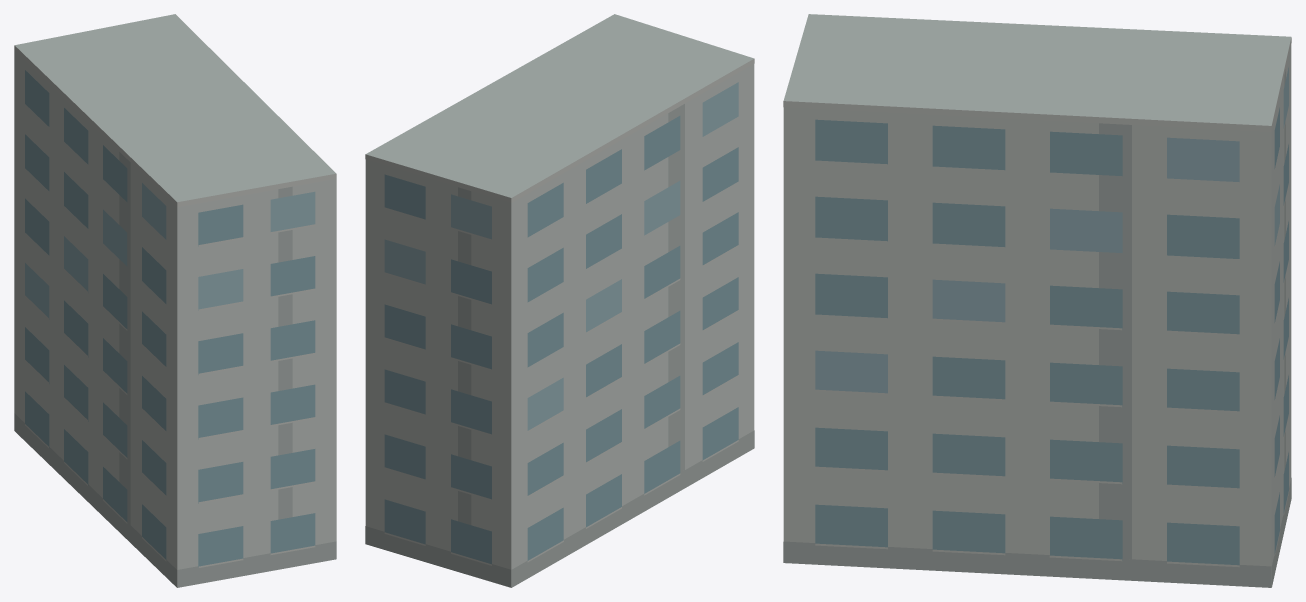
File: survey-upis-33001403.glb
The picture shows the model from 3 angles, left to right: view 1: azimuth 30°, elevation 25°; view 2: azimuth 150°, elevation 25°; view 3: azimuth 270°, elevation 25°; orthographic projection. The views are drawn at different scales.
Visible parts, largest first — view 1: survey-upis-33001403.tmp; view 2: survey-upis-33001403.tmp; view 3: survey-upis-33001403.tmp.
Part boxes in pixels (left/top/right/bottom): survey-upis-33001403.tmp: left=14, top=14, right=336, bottom=587; survey-upis-33001403.tmp: left=365, top=14, right=754, bottom=587; survey-upis-33001403.tmp: left=783, top=14, right=1291, bottom=587.
Bounding box in the file's own units: 9.52 × 18.3 × 18.25.
